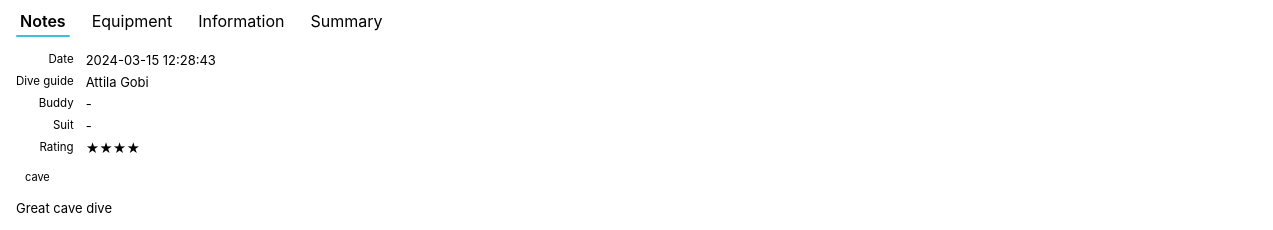
Scenario: InfoPanel › labels a cylinder's Size cell with 'L' when workPressureBar is unknown, instead of showing a bare litre number under the 'cuft' header
What coordinates should you click on to do the following:
click the tab "Equipment"
I would click on:
 (132, 21)
Its box is [80,6,184,36].
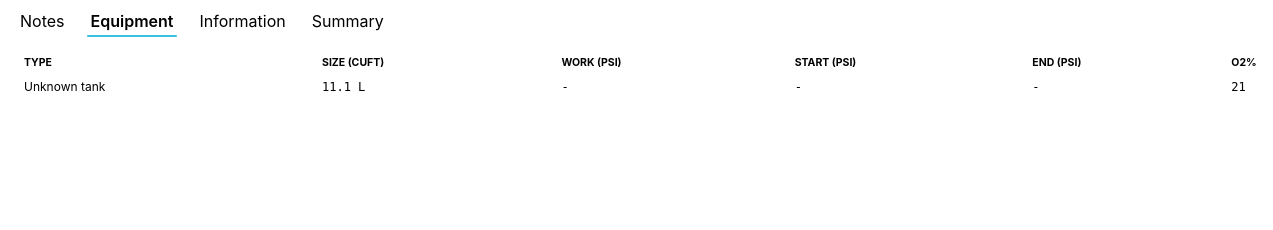
Expected: the column heading "Size (cuft)" is shown, [314,52,553,73]
Expected: the text "11.1 L" is shown, [314,73,553,100]
